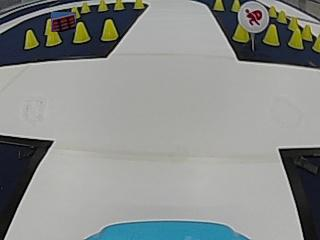thief: (238, 0, 270, 33)
